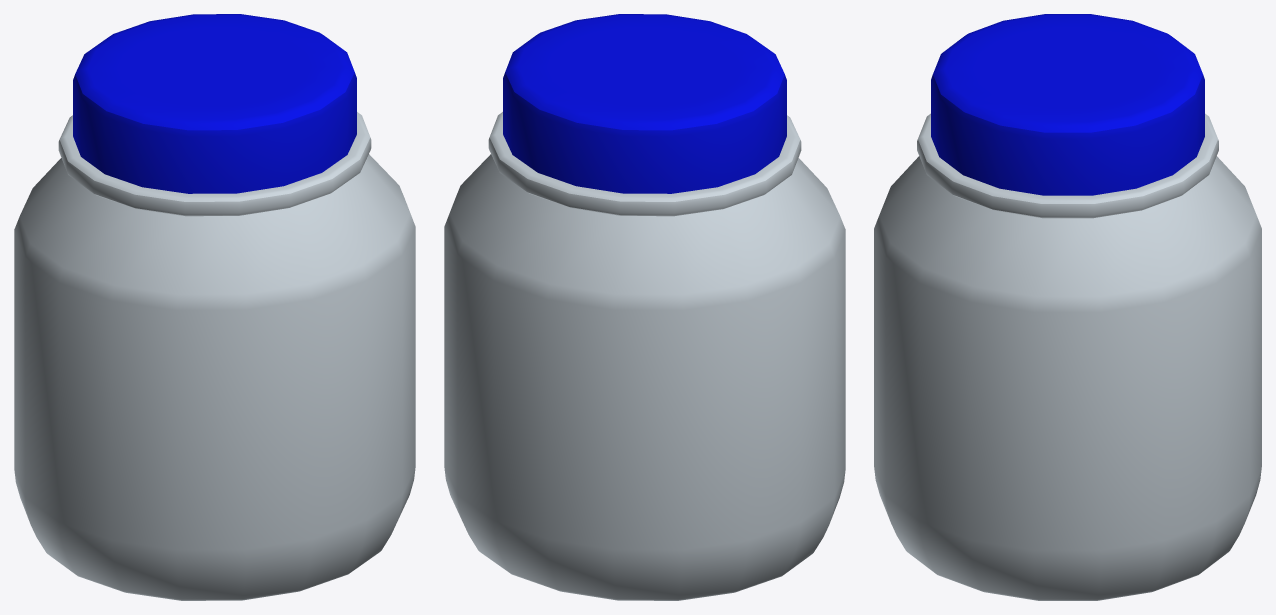
The model's file is BotellaMVidreoColor.fbx.
The picture shows the model from 3 angles, left to right: view 1: azimuth 30°, elevation 25°; view 2: azimuth 150°, elevation 25°; view 3: azimuth 270°, elevation 25°; orthographic projection.
Visible parts, largest first — view 1: Cylinder.002; view 2: Cylinder.002; view 3: Cylinder.002.
Part boxes in pixels (left/top/right/bottom): Cylinder.002: left=14, top=14, right=415, bottom=600; Cylinder.002: left=444, top=14, right=845, bottom=600; Cylinder.002: left=874, top=14, right=1261, bottom=600.
Bounding box in the file's own units: 11.1 × 14.22 × 10.85.
